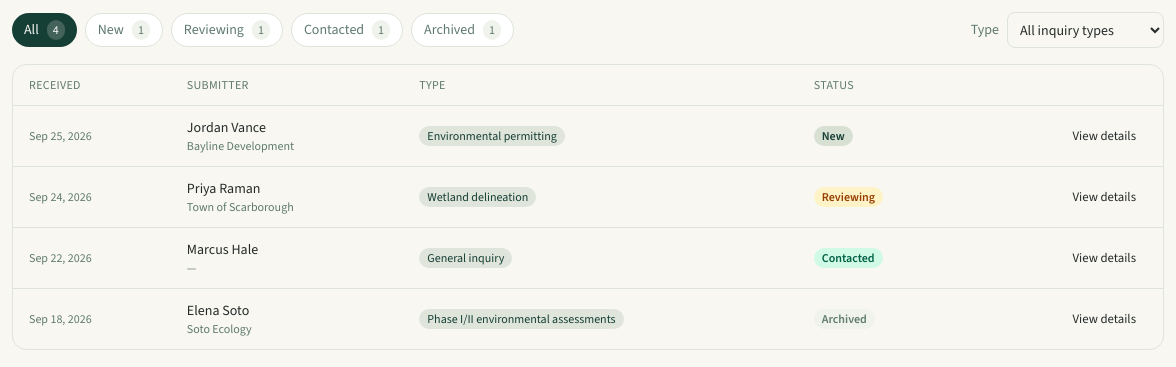
InquiriesTable filtering › filters rows by status through the pill filters
Click the button "New 1": (124, 30) x1=85 y1=13 x2=163 y2=47
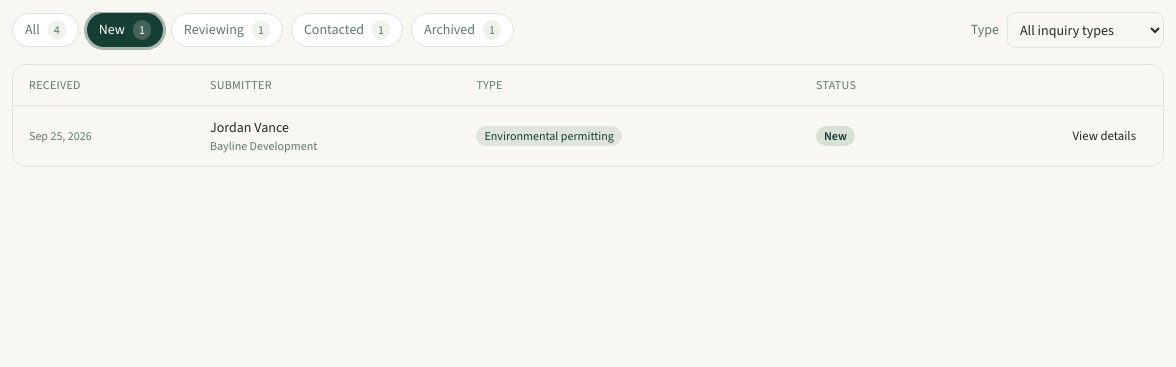
Expected: the text "Priya Raman" is gone
Expected: the text "Marcus Hale" is gone
Expected: the text "Elena Soto" is gone
Click the button "All 4": (45, 30) x1=12 y1=13 x2=79 y2=47
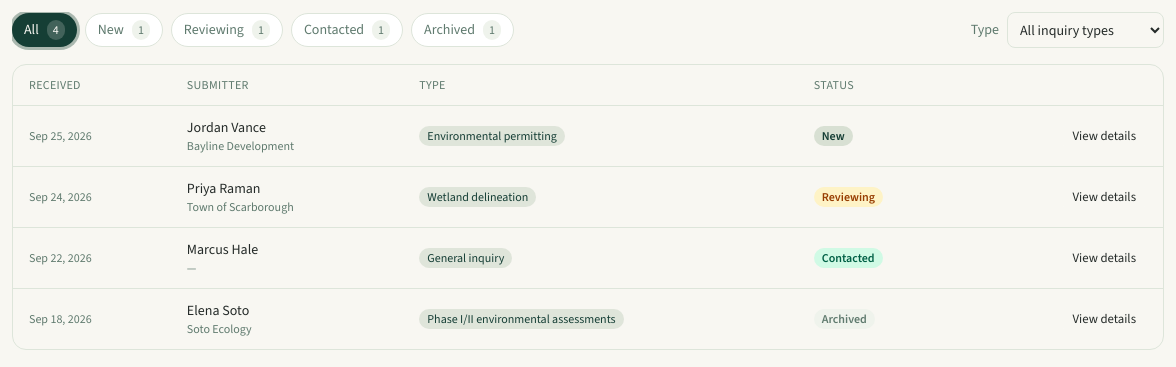
Expected: the text "Priya Raman" is shown, x1=187 y1=179 x2=260 y2=198
Expected: the text "Elena Soto" is shown, x1=187 y1=301 x2=249 y2=320
